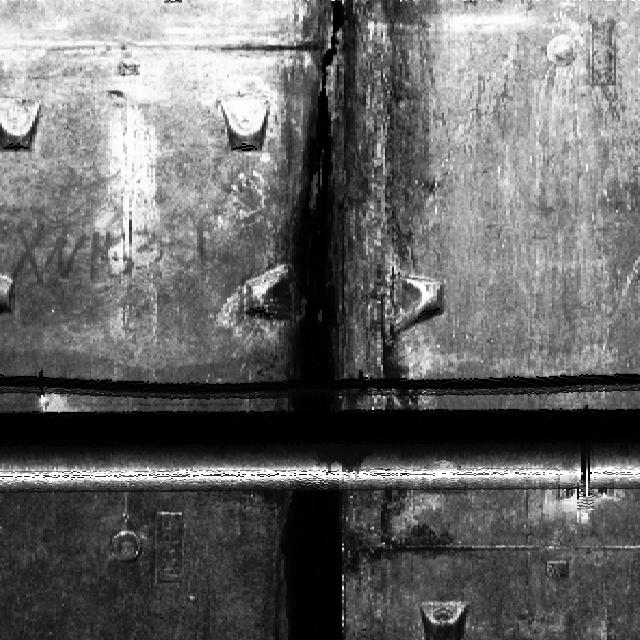leakage: (241, 0, 435, 406), (264, 476, 355, 639)
